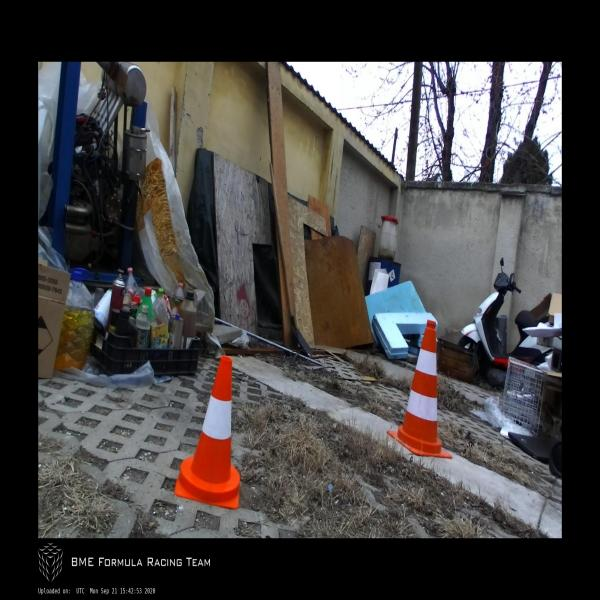orange_cone: (174, 356, 241, 508), (387, 320, 452, 459)
